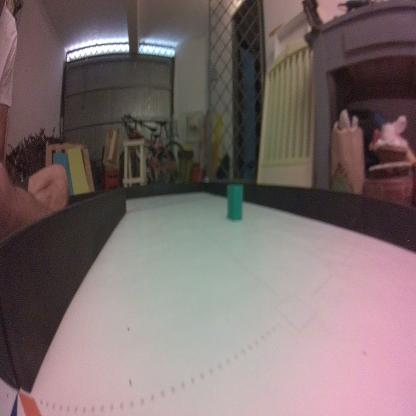green: (225, 182, 243, 221)
